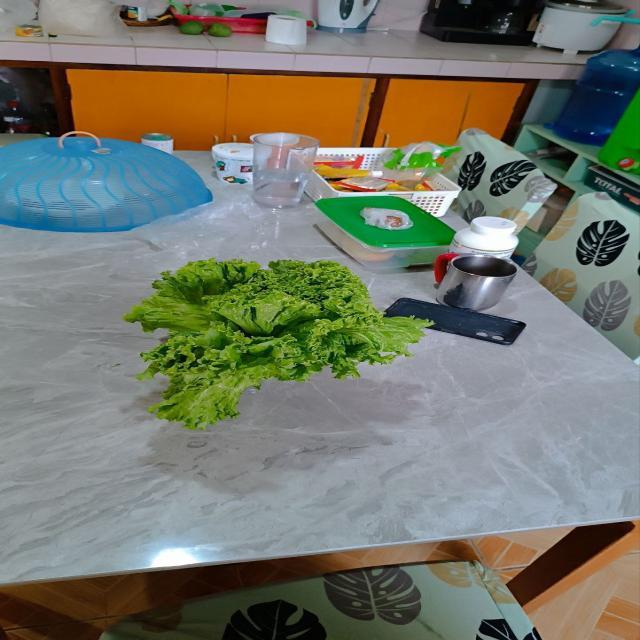Lettuce-Ready-to-Harvest: (141, 255, 403, 436)
